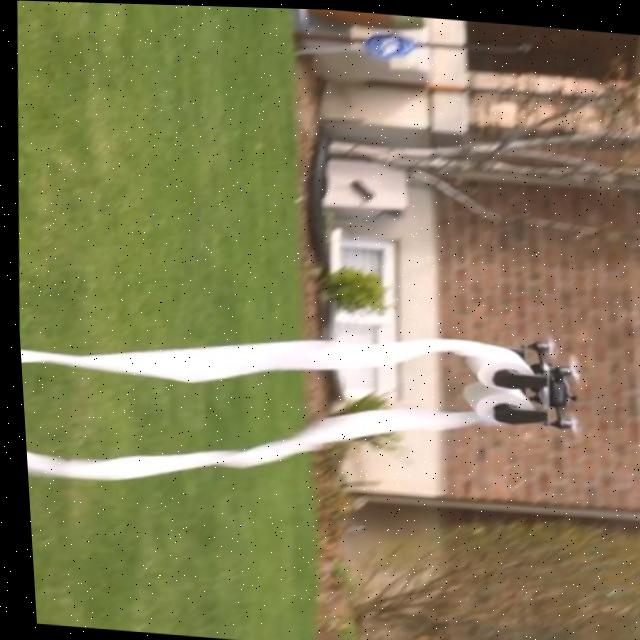drones: (418, 316, 605, 445)
